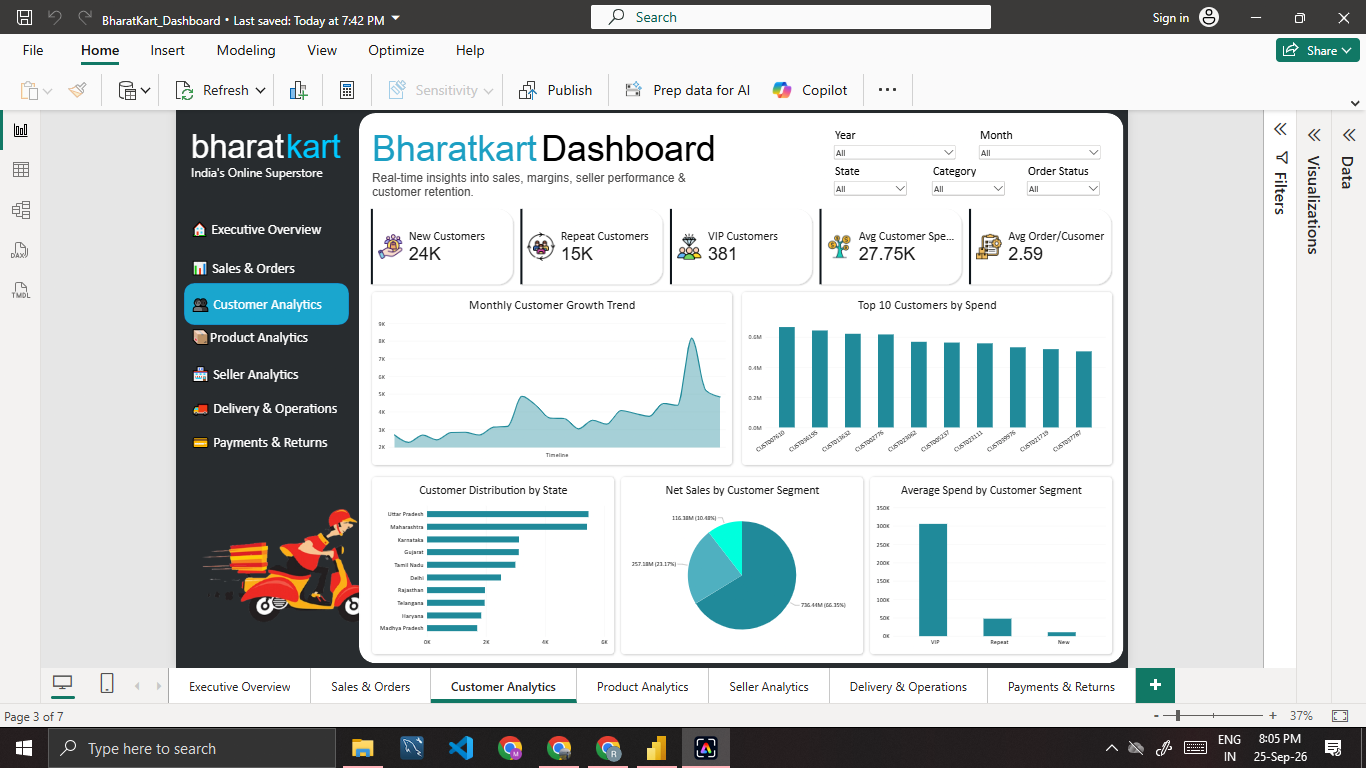

The dashboard page shown, as its layout file describes it:
{"tool":"powerbi","page":{"name":"Customer Analytics","canvas":[2560,1500],"ordinal":2},"visuals":[{"type":"shape","box":[493.1,8.9,2055.1,1479.3],"z":0},{"type":"textbox","box":[41.3,47.2,286.4,103.3],"z":1000},{"type":"textbox","box":[295.3,47.2,171.3,103.3],"z":2000},{"type":"textbox","box":[41.3,144.7,386.8,53.1],"z":3000},{"type":"image","box":[0,986.2,564,475.4],"z":4000},{"type":"textbox","box":[981.2,34.9,489.2,129],"z":5000},{"type":"textbox","box":[526.9,34.9,454.3,129],"z":6000},{"type":"textbox","box":[526.9,164,865.6,80.6],"z":7000},{"type":"slicer","fields":{"Values":["Calendar.Year"]},"box":[1762.8,47.2,336.6,118.1],"z":8000},{"type":"slicer","fields":{"Values":["customers.state"]},"box":[1762.8,144.7,206.5,118.4],"z":9000},{"type":"slicer","fields":{"Values":["Calendar.Month"]},"box":[2152.6,47.2,336.6,118.1],"z":10000},{"type":"slicer","fields":{"Values":["products.category"]},"box":[2025.6,144.7,206.5,118.4],"z":11000},{"type":"slicer","fields":{"Values":["orders.order_status"]},"box":[2282.3,145.2,206.5,118.4],"z":12000},{"type":"cardVisual","fields":{"Data":["DAX.New Customers","DAX.Repeat Customers","DAX.VIP Customers","DAX.Average Customer Spend","DAX.Avg Orders per Customer"]},"box":[502,245.1,2034.4,245.1],"z":13000},{"type":"lineChart","title":"Monthly Customer Growth Trend","fields":{"Category":["Calendar.Year","Calendar.Month"],"Y":["DAX.Total Customers"]},"box":[526.9,489.2,967.7,465.1],"z":14000},{"type":"clusteredColumnChart","title":"Top 10 Customers by Spend","fields":{"Category":["customers.customer_id"],"Y":["DAX.Net Sales"]},"box":[1521.5,489.2,994.6,465.1],"z":15000},{"type":"columnChart","title":"Average Spend by Customer Segment","fields":{"Category":["orders.customer_segment"],"Y":["DAX.Average Customer Spend"]},"box":[1865.6,986.6,650.5,475.8],"z":16000},{"type":"pieChart","title":"Net Sales by Customer Segment","fields":{"Category":["orders.customer_segment"],"Y":["DAX.Net Sales"]},"box":[1196.2,986.6,650.5,475.8],"z":17000},{"type":"barChart","title":"Customer Distribution by State","fields":{"Category":["customers.state"],"Y":["DAX.Total Customers"]},"box":[526.9,986.6,650.5,475.8],"z":18000},{"type":"shape","box":[21.5,465.1,443.5,112.9],"z":19000},{"type":"textbox","box":[40.3,293,366.1,65],"z":20000},{"type":"textbox","box":[40.3,397.8,365.6,53.8],"z":21000},{"type":"textbox","box":[40.3,682.8,366.1,65],"z":22000},{"type":"textbox","box":[40.3,494.6,365.6,53.8],"z":23000},{"type":"textbox","box":[40.3,583.3,366.1,65],"z":24000},{"type":"textbox","box":[40.3,774.2,425.2,65],"z":25000},{"type":"textbox","box":[40.3,865.6,425.2,65],"z":26000}]}

Visuals, with their boxes on the page's 2560x1500 design canvas (x1, y1, x2, y2). These are canvas units, not pixel positions in the 1366x768 screenshot, which may show the page scaled, cropped or inside an application window:
shape: 493:9:2548:1488
textbox: 41:47:328:150
textbox: 295:47:467:150
textbox: 41:145:428:198
image: 0:986:564:1462
textbox: 981:35:1470:164
textbox: 527:35:981:164
textbox: 527:164:1392:245
slicer - Calendar.Year: 1763:47:2099:165
slicer - customers.state: 1763:145:1969:263
slicer - Calendar.Month: 2153:47:2489:165
slicer - products.category: 2026:145:2232:263
slicer - orders.order_status: 2282:145:2489:264
cardVisual - DAX.New Customers x DAX.Repeat Customers: 502:245:2536:490
"Monthly Customer Growth Trend" lineChart: 527:489:1495:954
"Top 10 Customers by Spend" clusteredColumnChart: 1522:489:2516:954
"Average Spend by Customer Segment" columnChart: 1866:987:2516:1462
"Net Sales by Customer Segment" pieChart: 1196:987:1847:1462
"Customer Distribution by State" barChart: 527:987:1177:1462
shape: 22:465:465:578
textbox: 40:293:406:358
textbox: 40:398:406:452
textbox: 40:683:406:748
textbox: 40:495:406:548
textbox: 40:583:406:648
textbox: 40:774:466:839
textbox: 40:866:466:931
